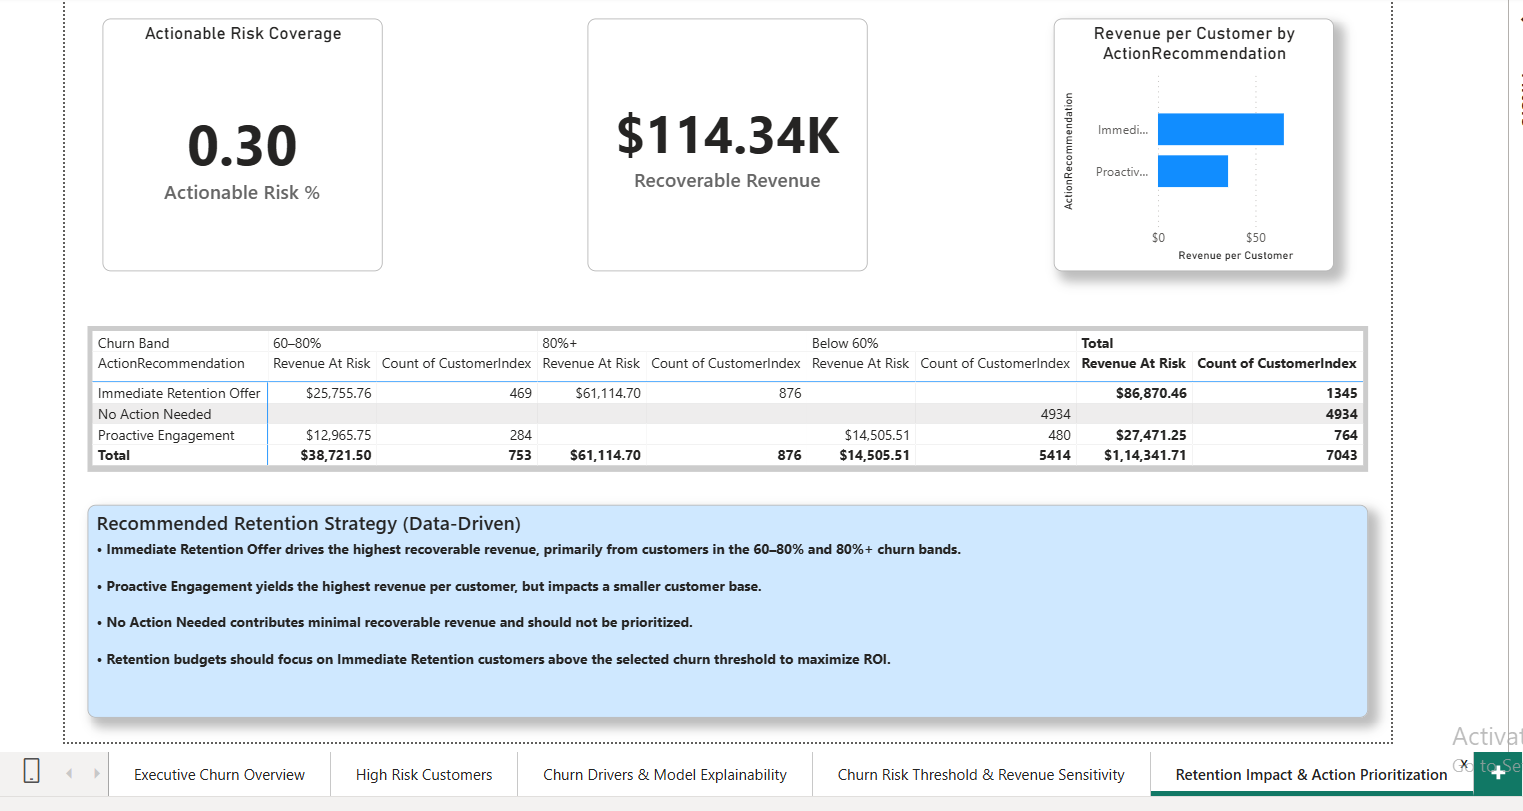

The dashboard page shown, as its layout file describes it:
{"tool":"powerbi","page":{"name":"Retention Impact & Action Prioritization","canvas":[1280,720],"ordinal":4},"visuals":[{"type":"card","fields":{"Values":["customer_churn_predictions_enriched.Recoverable Revenue"]},"box":[504.8,21.2,270.3,243.8],"z":0},{"type":"clusteredBarChart","fields":{"Category":["customer_churn_predictions_enriched.ActionRecommendation"],"Y":["customer_churn_predictions_enriched.Revenue per Customer"]},"box":[954,21.2,270.3,243.8],"z":1000},{"type":"pivotTable","fields":{"Columns":["customer_churn_predictions_enriched.Churn Band"],"Values":["customer_churn_predictions_enriched.Revenue At Risk","CountNonNull(customer_churn_predictions_enriched.CustomerIndex)"],"Rows":["customer_churn_predictions_enriched.ActionRecommendation"]},"box":[21.2,318,1236.3,140.5],"z":2000},{"type":"card","title":"Actionable Risk Coverage","fields":{"Values":["customer_churn_predictions_enriched.Actionable Risk %"]},"box":[35.8,21.2,270.3,243.8],"z":3000},{"type":"textbox","title":"Recommended Retention Strategy (Data-Driven)","box":[21.2,491.6,1236.3,205.4],"z":4000}]}

Visuals, with their boxes on the page's 1280x720 design canvas (x1, y1, x2, y2). These are canvas units, not pixel positions in the 1523x811 screenshot, which may show the page scaled, cropped or inside an application window:
card - customer_churn_predictions_enriched.Recoverable Revenue: {"left": 505, "top": 21, "right": 775, "bottom": 265}
clusteredBarChart - customer_churn_predictions_enriched.ActionRecommendation x customer_churn_predictions_enriched.Revenue per Customer: {"left": 954, "top": 21, "right": 1224, "bottom": 265}
pivotTable - customer_churn_predictions_enriched.Churn Band x customer_churn_predictions_enriched.Revenue At Risk: {"left": 21, "top": 318, "right": 1258, "bottom": 458}
"Actionable Risk Coverage" card: {"left": 36, "top": 21, "right": 306, "bottom": 265}
"Recommended Retention Strategy (Data-Driven)" textbox: {"left": 21, "top": 492, "right": 1258, "bottom": 697}
